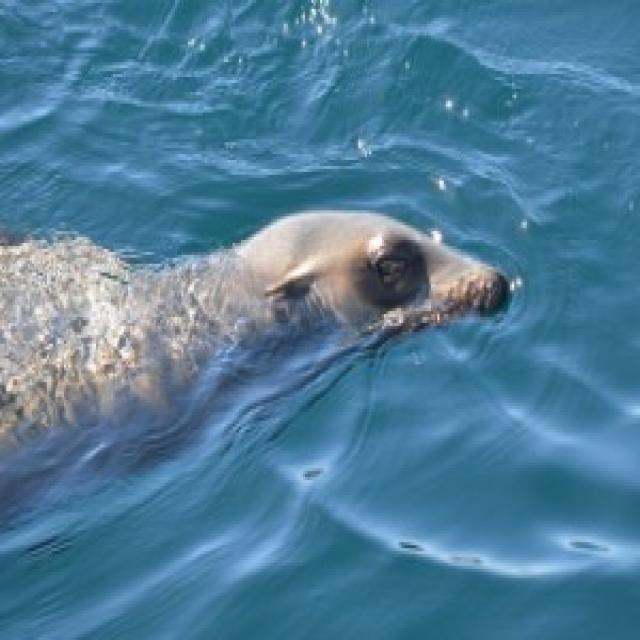Seal: (0, 212, 542, 538)
